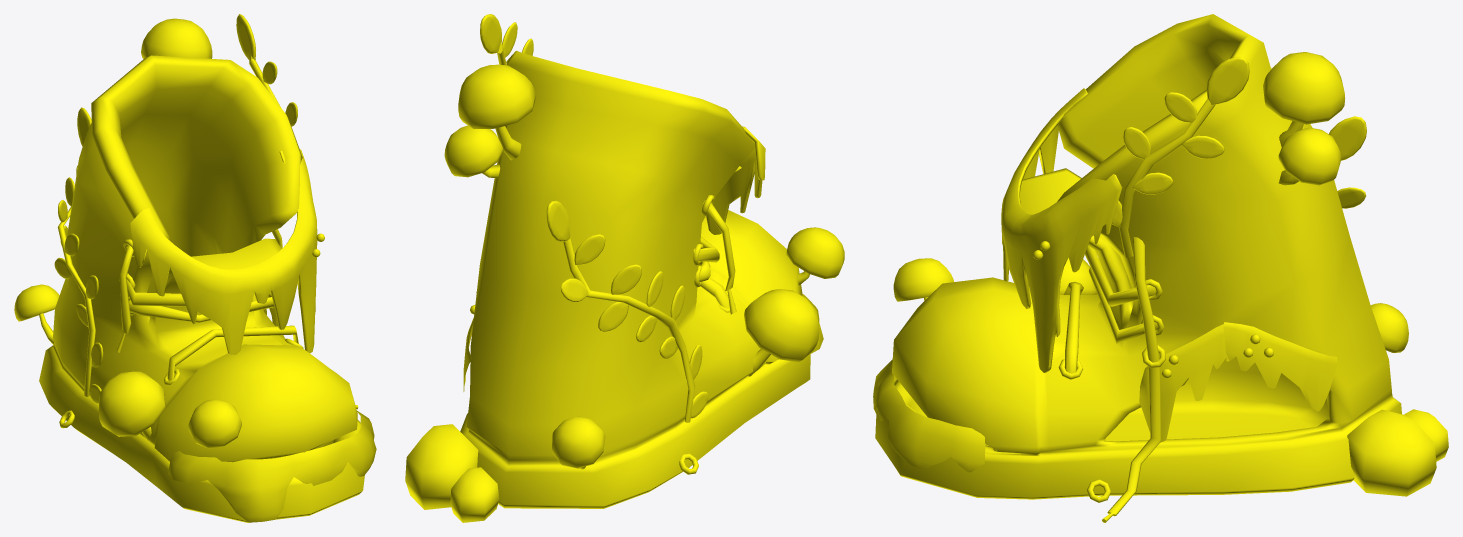
Rendered from BootHouse.fbx.
3 renders of one model, left to right at view 1: azimuth 30°, elevation 25°; view 2: azimuth 150°, elevation 25°; view 3: azimuth 270°, elevation 25°, orthographic. The views are drawn at different scales.
Parts seen in each view (by area): view 1: BootHouse; view 2: BootHouse; view 3: BootHouse.
Boxes of the visible parts, x1,y1,x2,y2 form: BootHouse: (14,14,376,522); BootHouse: (405,14,844,522); BootHouse: (873,14,1448,522).
Size of the model in its own units: 116 by 151 by 178.
